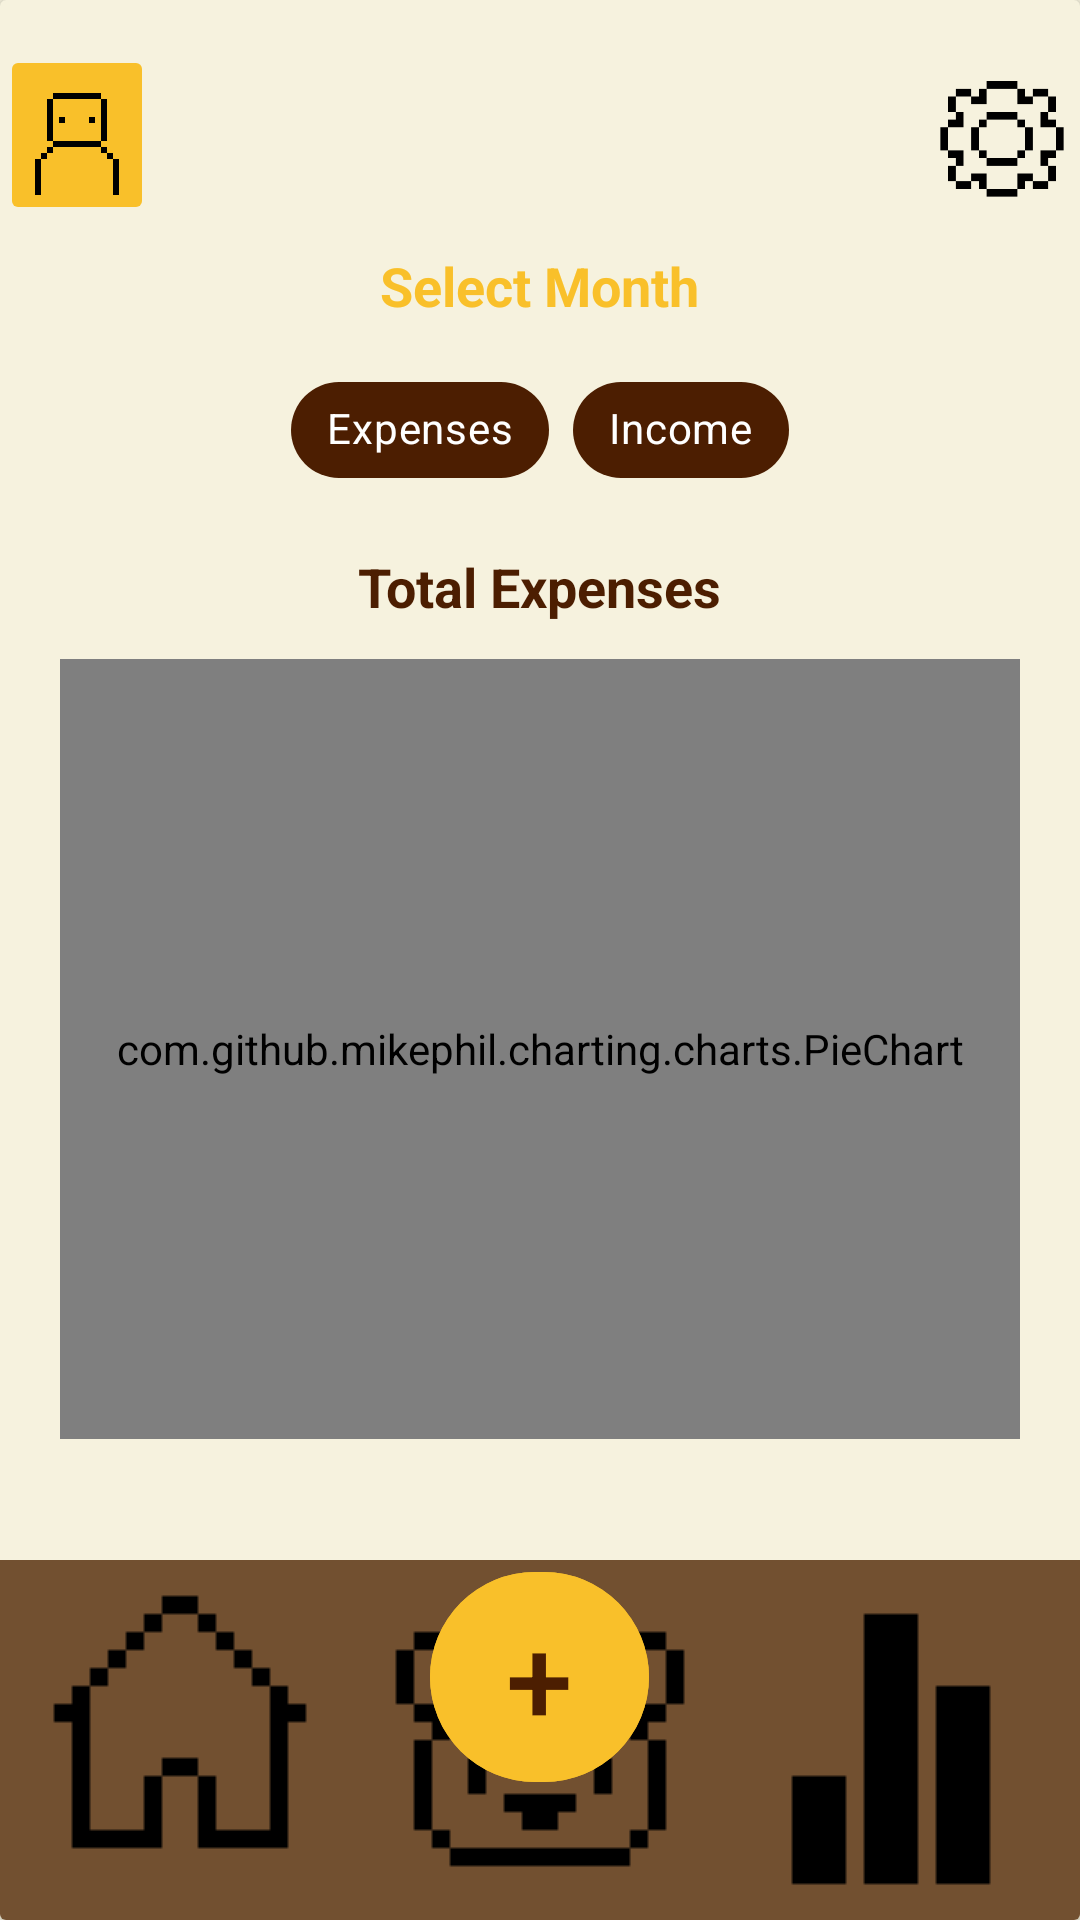

Icons on this 1080w x 1920h Android screen, each with its box as (x1, y1, x2, y2):
analyticsicon: (791, 1613, 1080, 1920)
cogicon: (940, 81, 1064, 197)
houseicon: (0, 1595, 307, 1920)
profileicon: (12, 63, 142, 207)
